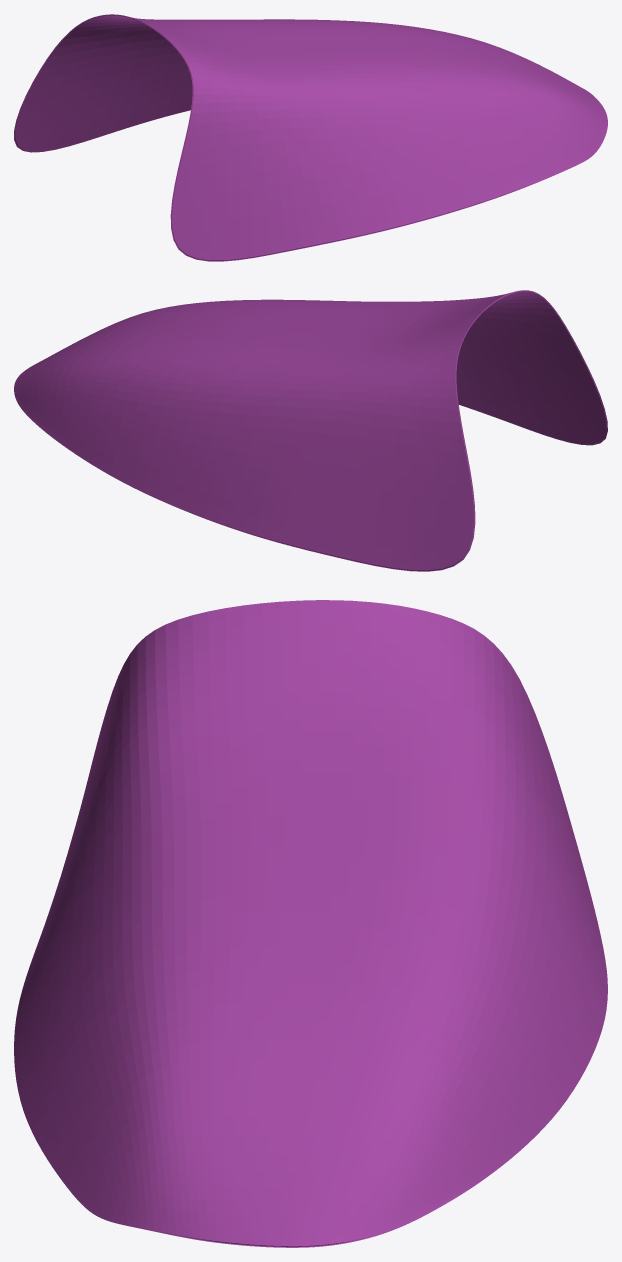
The model's file is frontLeftPURPLE.obj.
3 renders of one model, top to bottom at view 1: azimuth 30°, elevation 25°; view 2: azimuth 150°, elevation 25°; view 3: azimuth 270°, elevation 25°, orthographic. The views are drawn at different scales.
Visible parts, largest first — view 1: Plane; view 2: Plane; view 3: Plane.
Boxes of the visible parts, left/top/right/bottom form: Plane: left=14, top=14, right=607, bottom=261; Plane: left=14, top=290, right=607, bottom=571; Plane: left=14, top=600, right=607, bottom=1247.
Bounding box in the file's own units: 15.97 × 5.59 × 9.72.
1 material, 1 textured.
